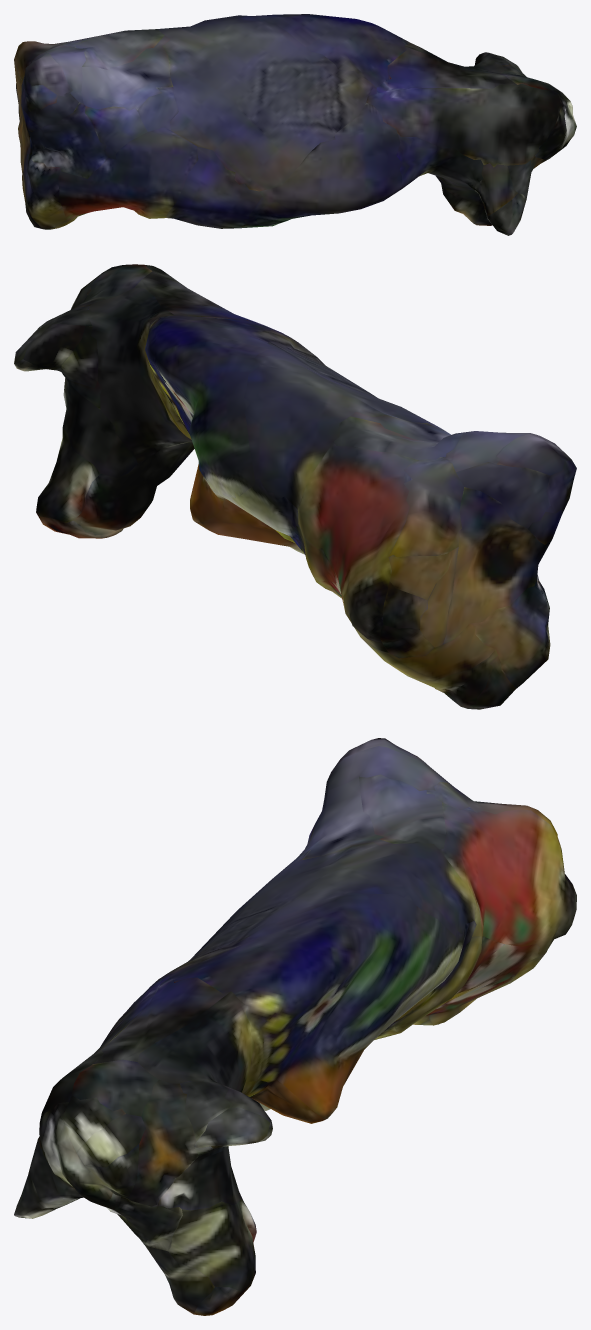
Rendered from hall.glb.
3 views of the same model, one above another, from view 1: azimuth 30°, elevation 25°; view 2: azimuth 150°, elevation 25°; view 3: azimuth 270°, elevation 25° (orthographic). The views are drawn at different scales.
Size of the model in its own units: 0.3558 by 0.1576 by 0.2682.
Materials: 1 (1 with a texture image).
